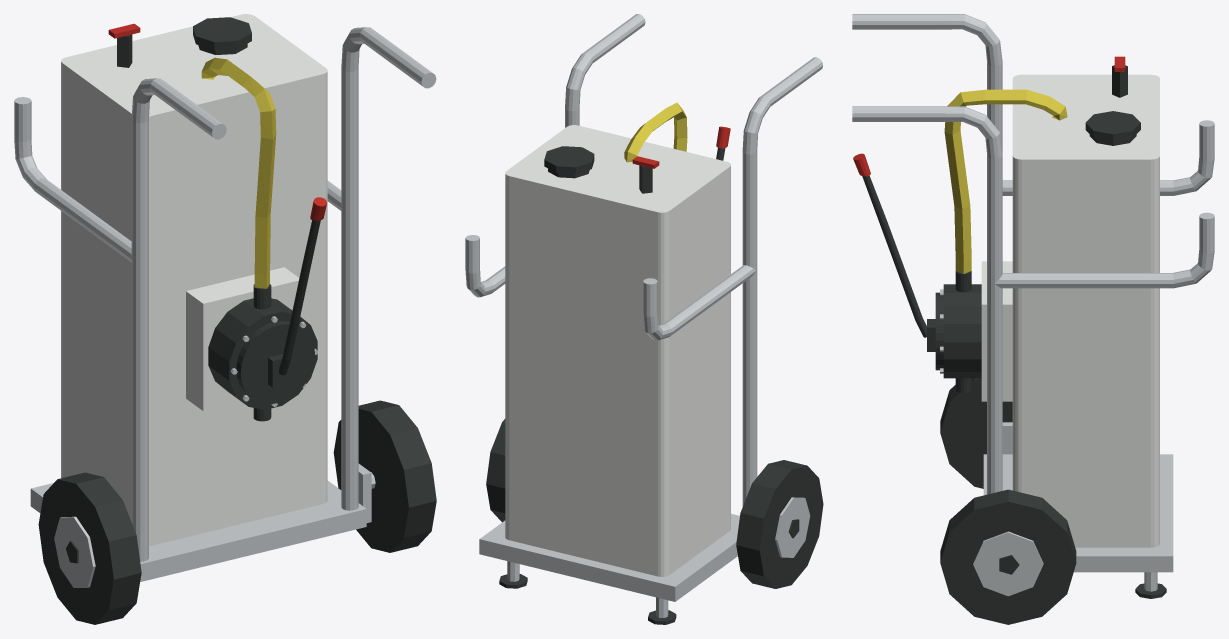
The picture shows the model from 3 angles, left to right: view 1: azimuth 30°, elevation 25°; view 2: azimuth 150°, elevation 25°; view 3: azimuth 270°, elevation 25°; orthographic projection. The views are drawn at different scales.
Parts seen in each view (by area): view 1: Collection_tank_25gal, Tubular_push_frame_-1, Tubular_push_frame_1, Pneumatic_tire_-1, Pneumatic_tire_1, Base_tray, Pump_mount_plate, Short_yellow_connecting_hose, Pump_cover, Diaphragm_pump_body, Lever_pivot_lug, Wheel_rim_-1 (+2 smaller); view 2: Collection_tank_25gal, Tubular_push_frame_-1, Pneumatic_tire_-1, Base_tray, Tubular_push_frame_1, Pneumatic_tire_1, Wheel_rim_-1, Short_yellow_connecting_hose, Four_inch_access_cap; view 3: Collection_tank_25gal, Tubular_push_frame_1, Pneumatic_tire_1, Tubular_push_frame_-1, Base_tray, Short_yellow_connecting_hose, Pneumatic_tire_-1, Diaphragm_pump_body, Wheel_rim_1, Pump_mount_plate, Lever_pivot_lug, Four_inch_access_cap (+1 smaller).
Boxes of the visible parts, x1,y1,x2,y2 form: Collection_tank_25gal: [61, 14, 327, 546]; Tubular_push_frame_-1: [14, 78, 226, 561]; Tubular_push_frame_1: [327, 27, 436, 510]; Pneumatic_tire_-1: [38, 472, 141, 624]; Pneumatic_tire_1: [333, 400, 436, 552]; Base_tray: [30, 480, 366, 581]; Pump_mount_plate: [186, 267, 301, 411]; Short_yellow_connecting_hose: [201, 57, 276, 288]; Pump_cover: [236, 321, 314, 403]; Diaphragm_pump_body: [208, 298, 317, 409]; Lever_pivot_lug: [268, 220, 320, 387]; Wheel_rim_-1: [54, 516, 95, 587]; Collection_tank_25gal: [505, 125, 730, 576]; Tubular_push_frame_-1: [643, 57, 822, 506]; Pneumatic_tire_-1: [736, 460, 823, 588]; Base_tray: [479, 513, 739, 601]; Tubular_push_frame_1: [465, 14, 645, 297]; Pneumatic_tire_1: [486, 418, 505, 522]; Wheel_rim_-1: [775, 497, 810, 557]; Short_yellow_connecting_hose: [624, 102, 687, 162]; Four_inch_access_cap: [544, 146, 594, 173]; Collection_tank_25gal: [1012, 74, 1159, 547]; Tubular_push_frame_1: [852, 106, 1214, 494]; Pneumatic_tire_1: [940, 489, 1076, 624]; Tubular_push_frame_-1: [852, 14, 1214, 195]; Base_tray: [983, 454, 1173, 572]; Short_yellow_connecting_hose: [944, 89, 1067, 273]; Pneumatic_tire_-1: [940, 378, 1012, 488]; Diaphragm_pump_body: [943, 284, 981, 378]; Wheel_rim_1: [973, 531, 1043, 596]; Pump_mount_plate: [981, 261, 1012, 401]; Lever_pivot_lug: [862, 175, 935, 351]; Four_inch_access_cap: [1085, 111, 1140, 141].
Size of the model in its own units: 0.7747 by 1.22 by 0.8128.
